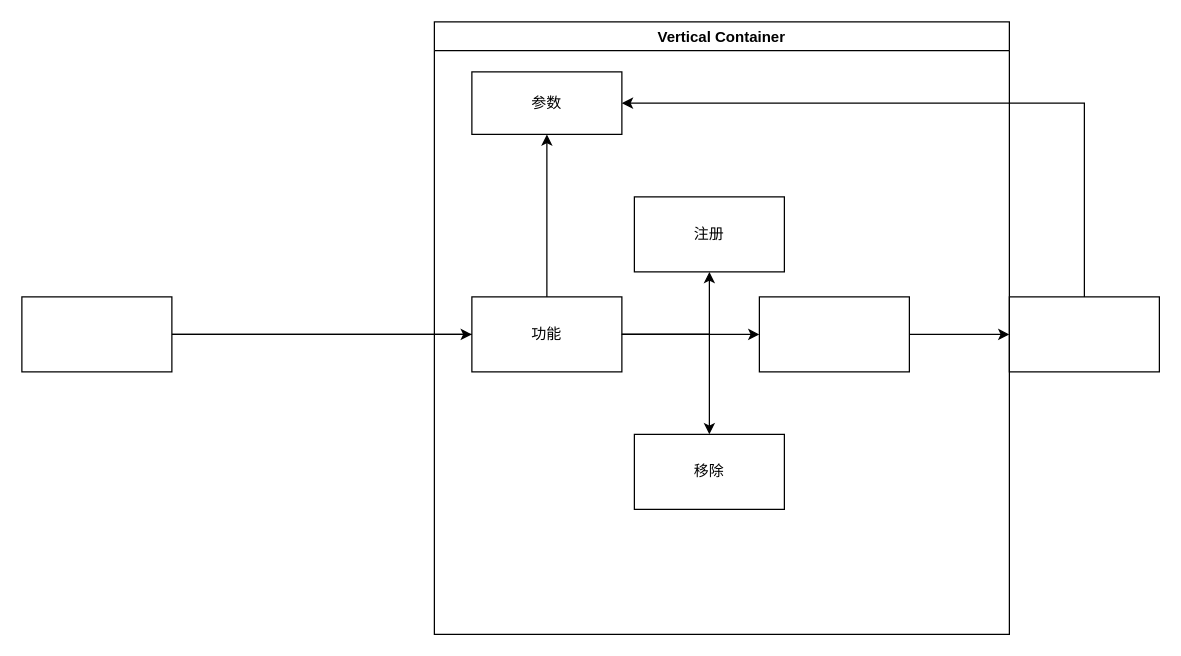
This 1181x656 diagram has some shape labels left out. The box of each missing label's shape, as (x1, y1, x2, y2) in pixels:
事件: (21, 296, 172, 372)
池释放: (1008, 296, 1159, 372)
调用: (758, 296, 909, 372)
